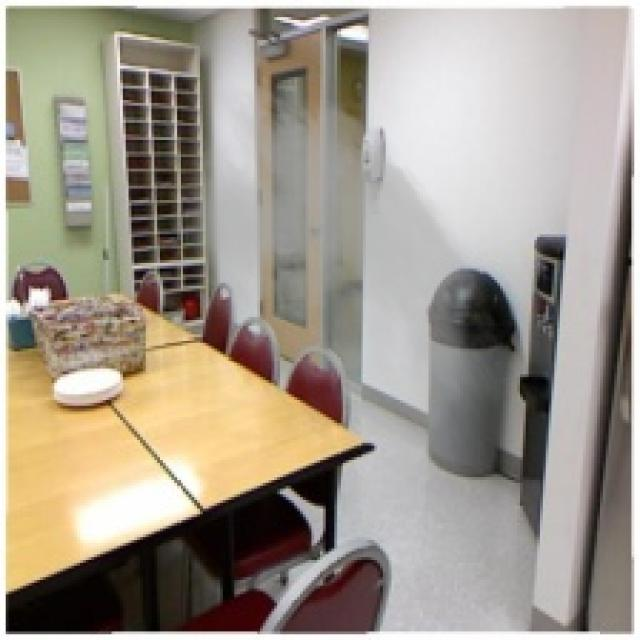smoke: (160, 71, 520, 488)
